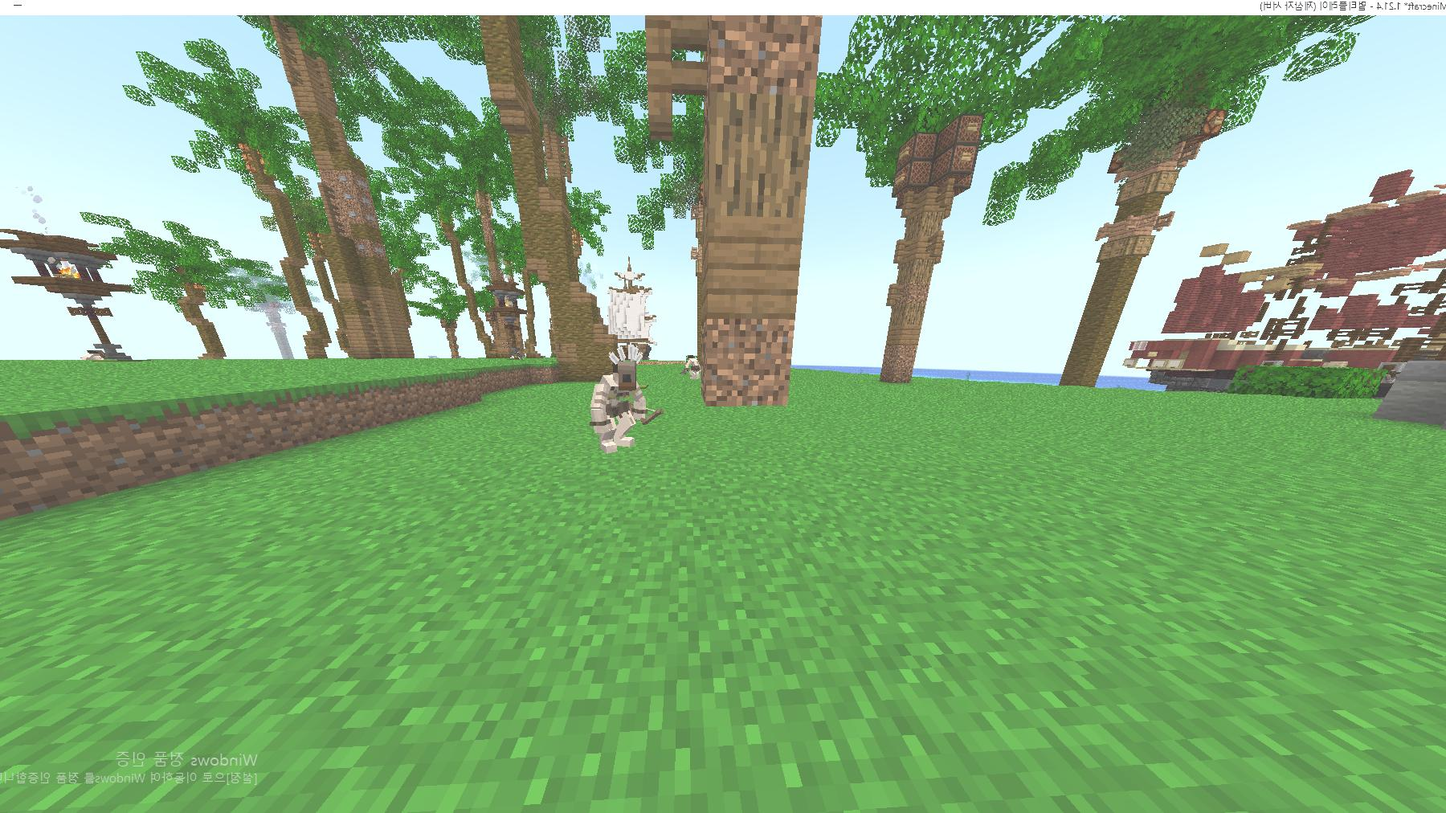bow_indian: (567, 332, 675, 475)
